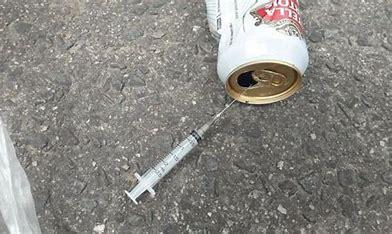Syringe: (115, 100, 235, 210)
